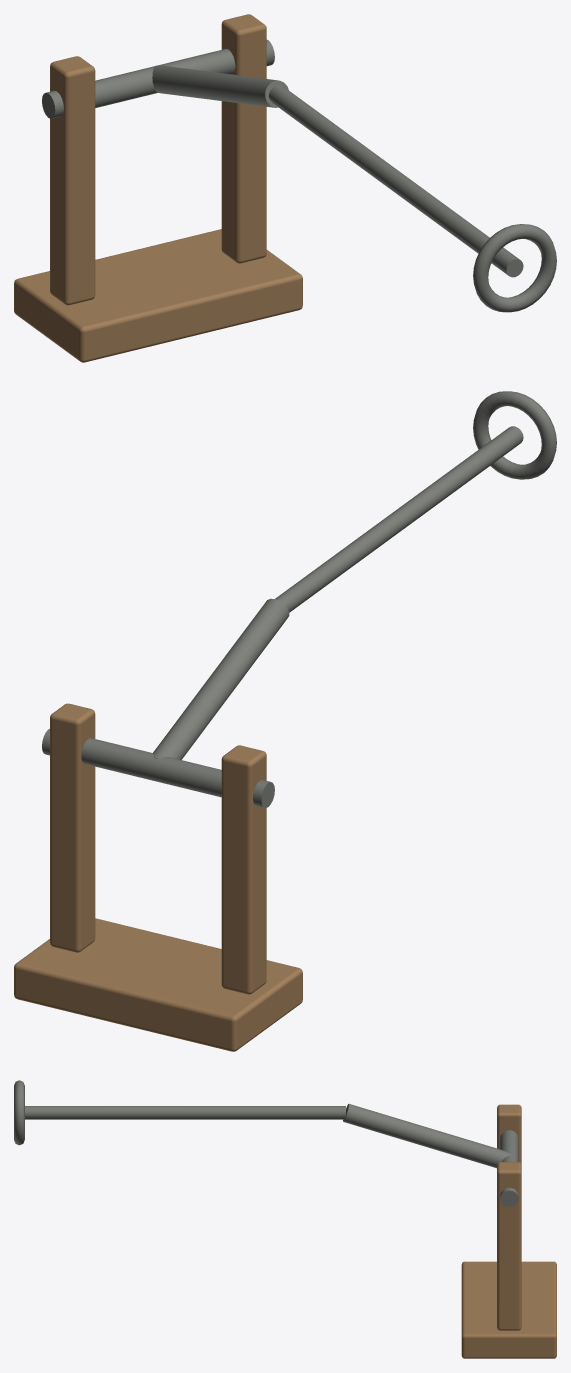
The model's file is sluice-control-linkage.glb.
3 renders of one model, top to bottom at view 1: azimuth 30°, elevation 25°; view 2: azimuth 150°, elevation 25°; view 3: azimuth 270°, elevation 25°, orthographic. The views are drawn at different scales.
Parts seen in each view (by area): view 1: sluice-control-linkage; view 2: sluice-control-linkage; view 3: sluice-control-linkage.
Boxes of the visible parts, x1,y1,x2,y2 form: sluice-control-linkage: (14, 14, 556, 362); sluice-control-linkage: (14, 391, 556, 1051); sluice-control-linkage: (14, 1080, 556, 1358).
Bounding box in the file's own units: 0.65 × 0.97 × 1.99.
